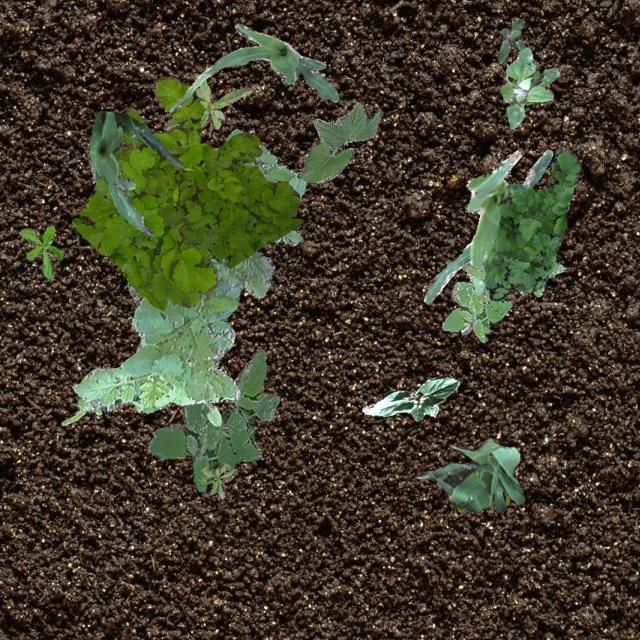crop: (422, 148, 552, 334), (168, 22, 338, 110), (86, 110, 182, 234), (414, 438, 524, 512), (300, 102, 380, 182), (362, 376, 458, 419), (200, 380, 220, 426)
weed: (73, 128, 304, 412), (70, 76, 216, 310), (144, 132, 302, 268), (148, 348, 278, 490), (482, 146, 580, 300), (441, 238, 564, 342), (162, 72, 250, 130), (499, 46, 558, 128), (19, 225, 62, 278), (200, 462, 237, 498), (496, 18, 526, 62), (457, 490, 509, 512), (61, 396, 100, 424)
